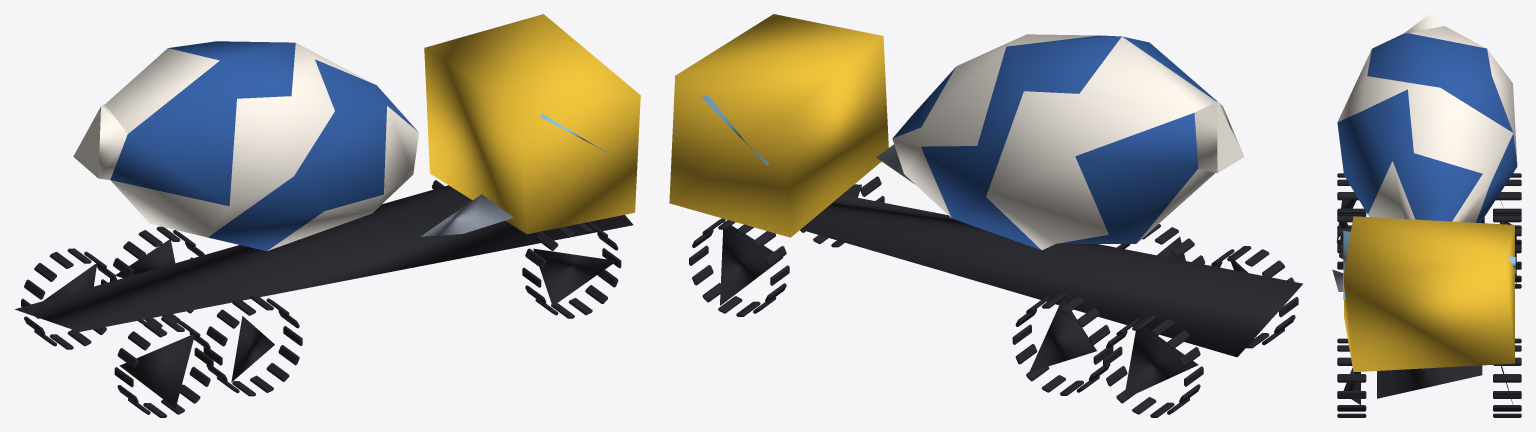
File: cement_truck.glb
3 views of the same model, side by side, from view 1: azimuth 30°, elevation 25°; view 2: azimuth 150°, elevation 25°; view 3: azimuth 270°, elevation 25° (orthographic). The views are drawn at different scales.
Parts seen in each view (by area): view 1: cement_truck.007, drum.007; view 2: cement_truck.007, drum.007; view 3: cement_truck.007, drum.007.
Part boxes in pixels (<box>): cement_truck.007: <box>15,14,640,417</box>; drum.007: <box>73,41,418,251</box>; cement_truck.007: <box>669,14,1302,417</box>; drum.007: <box>892,34,1244,250</box>; cement_truck.007: <box>1332,173,1521,417</box>; drum.007: <box>1337,14,1517,222</box>.
Size of the model in its own units: 7.48 by 3.91 by 2.66.
Materials: 1 (1 with a texture image).
